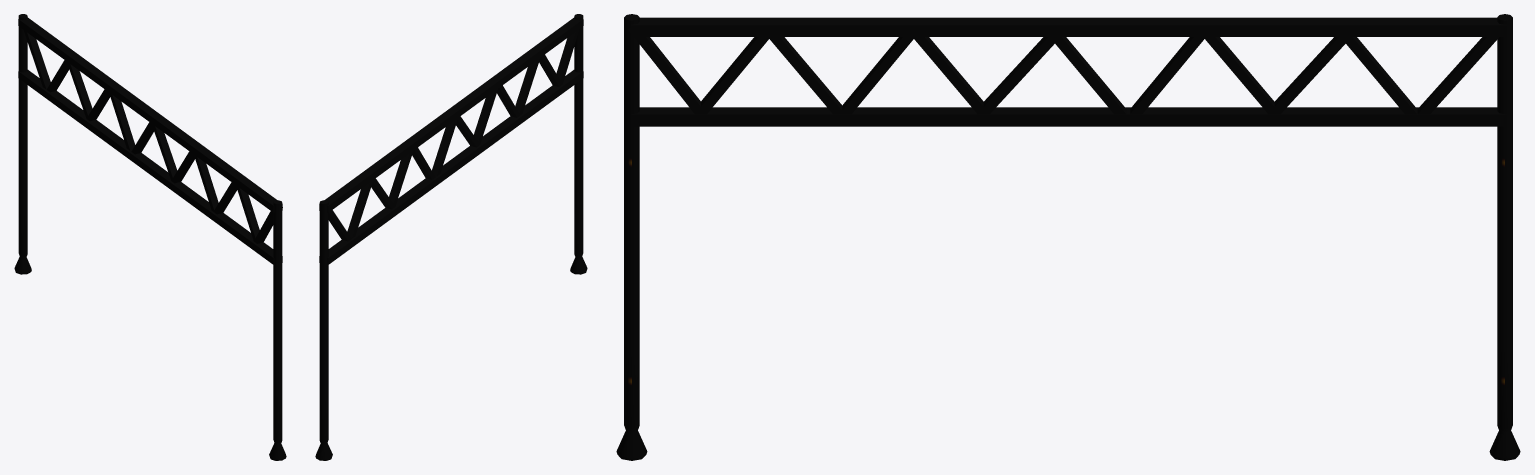
The model's file is overhead sign.FBX.
3 views of the same model, side by side, from view 1: azimuth 30°, elevation 25°; view 2: azimuth 150°, elevation 25°; view 3: azimuth 270°, elevation 25° (orthographic). The views are drawn at different scales.
Parts seen in each view (by area): view 1: Box001; view 2: Box001; view 3: Box001.
Part boxes in pixels (x1,y1,x2,y2): Box001: (14,14,286,460); Box001: (315,14,587,460); Box001: (616,14,1520,460).
Size of the model in its own units: 3.55 by 55.16 by 103.
